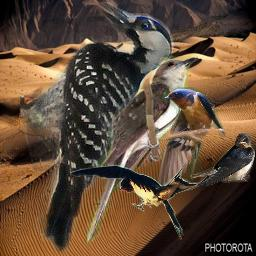Cuckoo: (87, 56, 198, 244)
Swallow: (68, 158, 225, 240), (154, 87, 226, 202), (189, 133, 255, 186)
Woodpecker: (20, 2, 175, 254)
